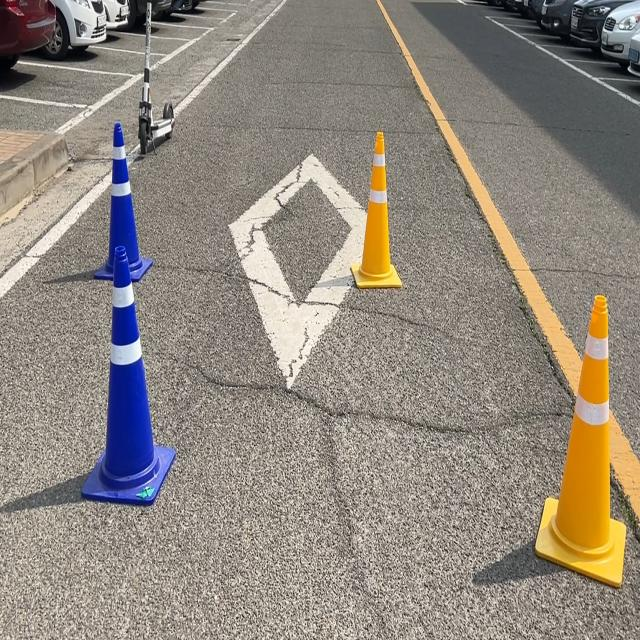b_rub: (81, 245, 175, 505), (94, 120, 152, 281)
y_rub: (536, 295, 627, 588), (351, 130, 402, 288)
